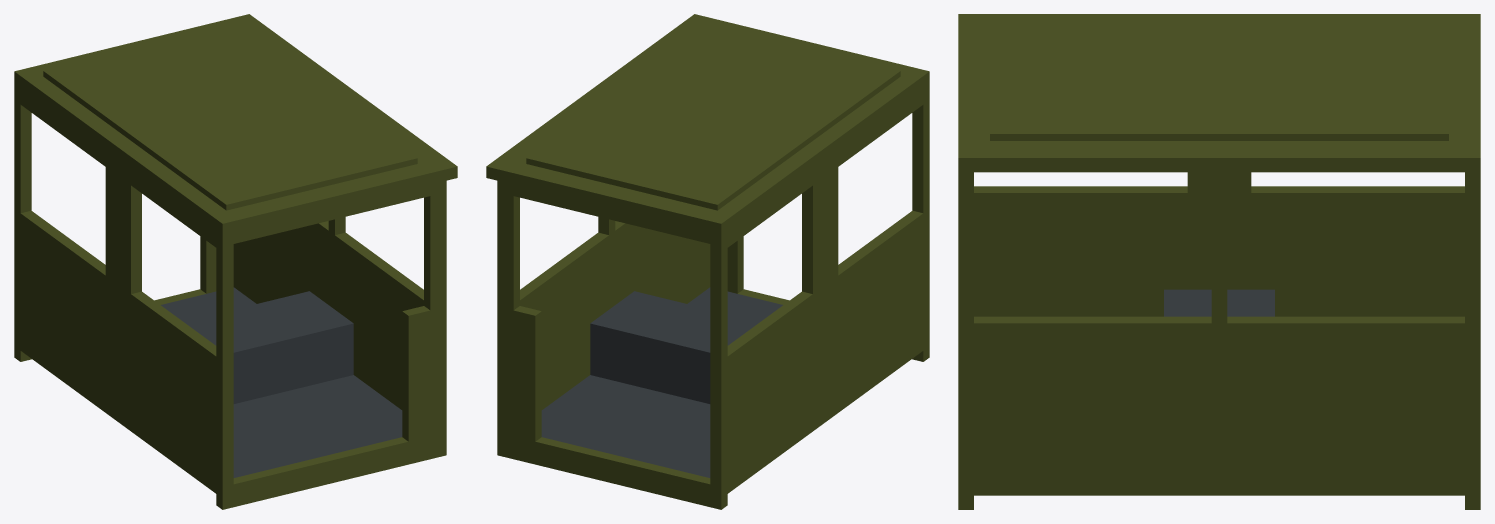
The model's file is military_ambulance_cab.glb.
The picture shows the model from 3 angles, left to right: view 1: azimuth 30°, elevation 25°; view 2: azimuth 150°, elevation 25°; view 3: azimuth 270°, elevation 25°; orthographic projection. The views are drawn at different scales.
Visible parts, largest first — view 1: body:compound; view 2: body:compound; view 3: body:compound.
Boxes of the visible parts, x1=… form: body:compound: x1=14, y1=14, x2=457, y2=509; body:compound: x1=486, y1=14, x2=929, y2=509; body:compound: x1=958, y1=14, x2=1480, y2=509.
Size of the model in its own units: 1.34 by 1.59 by 2.06.
